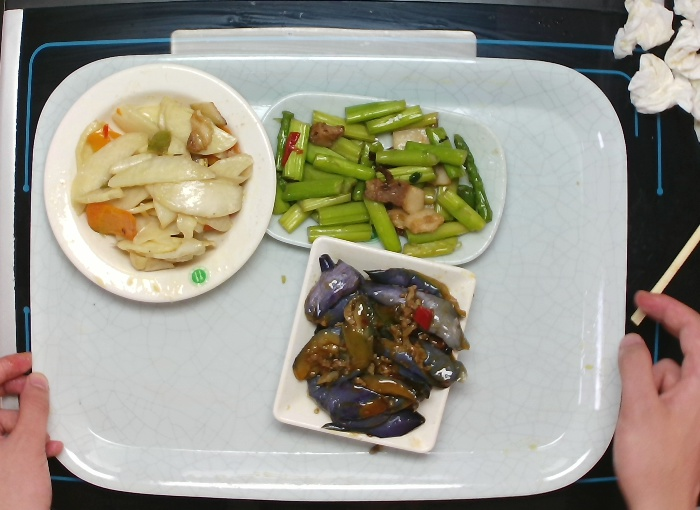WCQzf-Bai_Se_Si_Fang_Die: (270, 231, 482, 455)
WCQzf-Kuan_Bian_Yuan_Die: (39, 55, 280, 307)
WCQzf-Tuo_Yuan_Pan: (254, 89, 510, 275)
